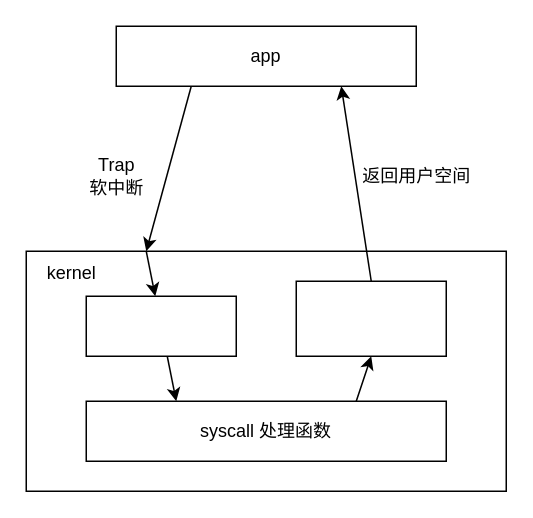
This 533x518 diagram has some shape labels left out. Each missing label, with the box of its shape:
保存用户上下文: (85, 295, 236, 356)
寄存器填结果 恢复用户上下文: (295, 280, 446, 356)
